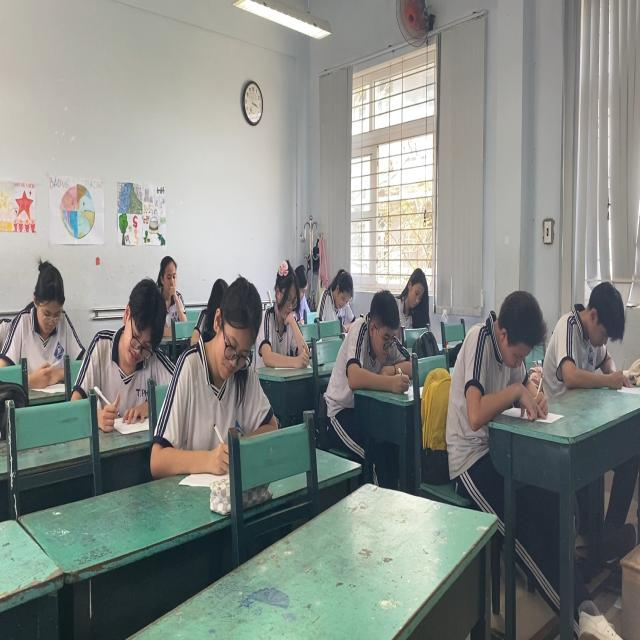not_cheating: (176, 273, 261, 466), (78, 270, 170, 424), (459, 276, 549, 420), (544, 259, 630, 397), (326, 297, 410, 394), (14, 256, 80, 379), (257, 248, 304, 362), (316, 255, 354, 331), (151, 245, 187, 324), (392, 259, 428, 321)
